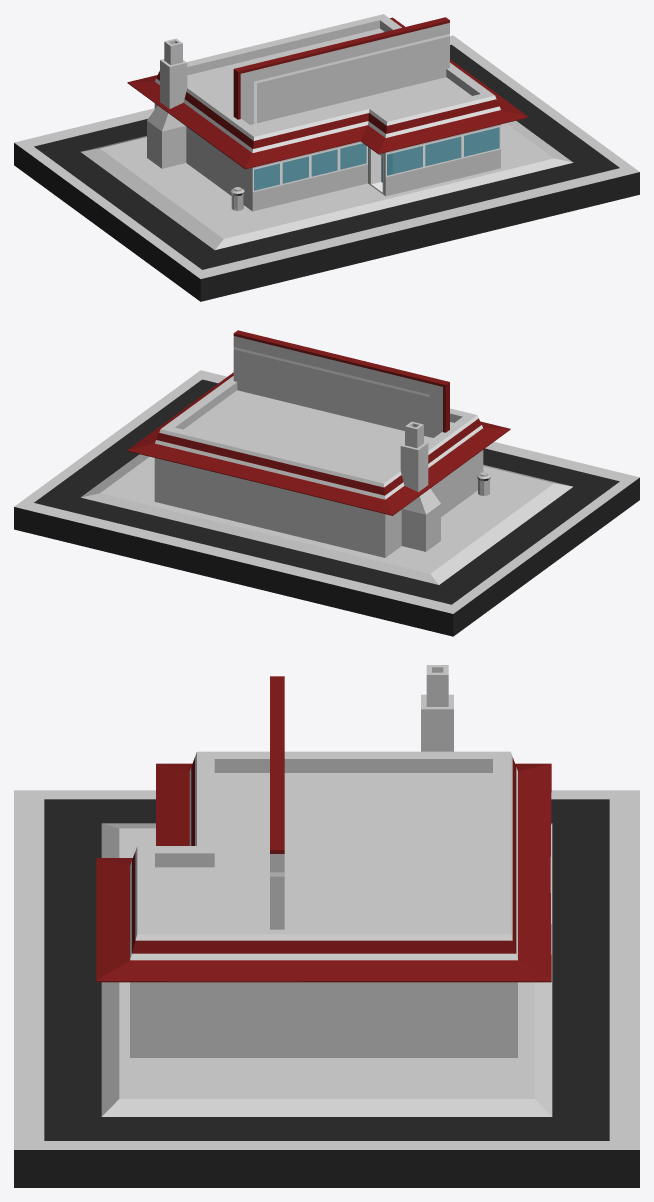
File: restaurant.glb
3 renders of one model, top to bottom at view 1: azimuth 30°, elevation 25°; view 2: azimuth 150°, elevation 25°; view 3: azimuth 270°, elevation 25°, orthographic. The views are drawn at different scales.
Visible parts, largest first — view 1: Box001, Box002; view 2: Box001, Box002; view 3: Box001, Box002.
Part boxes in pixels (<box>): Box001: <box>14,35,639,301</box>; Box002: <box>127,14,528,211</box>; Box001: <box>14,370,639,636</box>; Box002: <box>127,330,510,557</box>; Box001: <box>14,790,639,1187</box>; Box002: <box>96,665,551,1057</box>.
Size of the model in its own units: 301 by 95.65 by 221.
